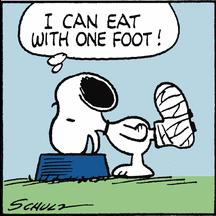snoopy: (46, 70, 196, 180)
